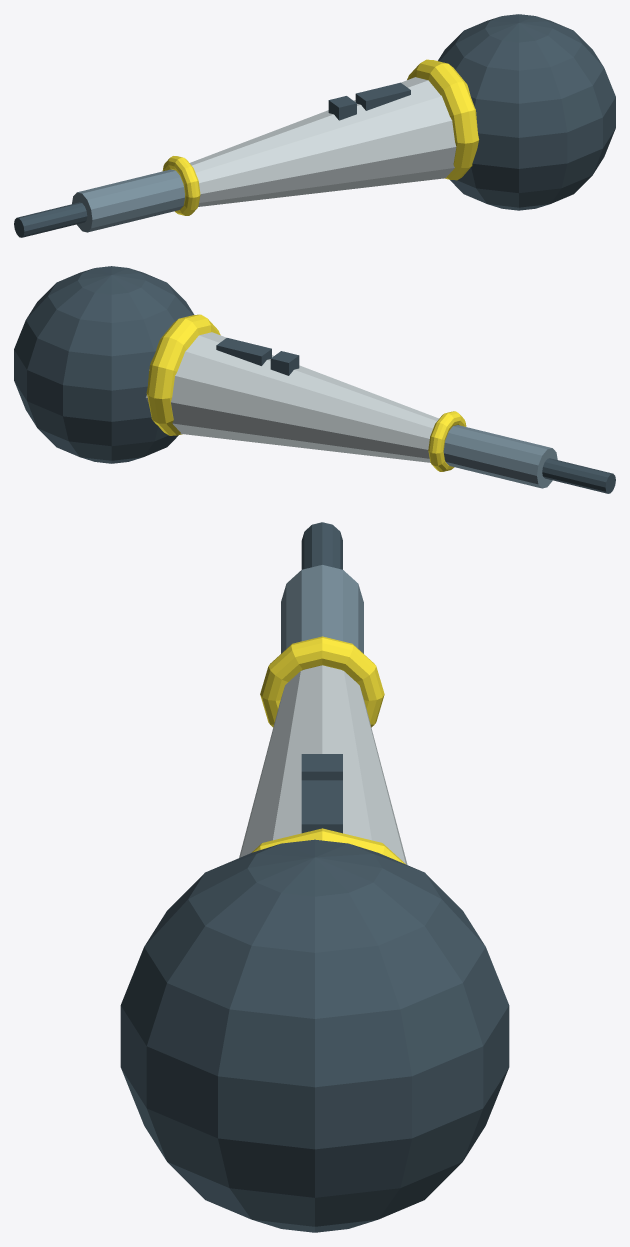
The model's file is basic_mic.glb.
The picture shows the model from 3 angles, top to bottom: view 1: azimuth 30°, elevation 25°; view 2: azimuth 150°, elevation 25°; view 3: azimuth 270°, elevation 25°; orthographic projection. The views are drawn at different scales.
Parts seen in each view (by area): view 1: group1623977601, group1381916981, group616456747, group821398798, group931319910, group865778064, group1014424045, group2089609668; view 2: group1623977601, group1381916981, group616456747, group821398798, group931319910, group865778064, group1014424045, group2089609668; view 3: group1623977601, group1381916981, group616456747, group865778064, group1014424045, group931319910, group821398798, group2089609668.
Boxes of the visible parts, x1,y1,x2,y2 form: group1623977601: [438, 14, 615, 210]; group1381916981: [190, 77, 456, 206]; group616456747: [72, 169, 184, 232]; group821398798: [407, 59, 479, 180]; group931319910: [14, 202, 87, 237]; group865778064: [162, 156, 200, 215]; group1014424045: [355, 82, 410, 110]; group2089609668: [328, 96, 356, 120]; group1623977601: [14, 266, 194, 463]; group1381916981: [145, 332, 438, 462]; group616456747: [443, 425, 557, 488]; group821398798: [146, 314, 220, 435]; group931319910: [542, 458, 615, 493]; group865778064: [428, 411, 466, 471]; group1014424045: [216, 338, 271, 365]; group2089609668: [270, 351, 299, 375]; group1623977601: [120, 839, 509, 1232]; group1381916981: [239, 665, 407, 864]; group616456747: [281, 565, 363, 653]; group865778064: [260, 636, 384, 727]; group1014424045: [301, 780, 342, 833]; group931319910: [301, 522, 342, 569]; group821398798: [251, 828, 405, 864]; group2089609668: [301, 754, 342, 780].
Size of the model in its own units: 0.6471 by 0.19 by 0.1871.
